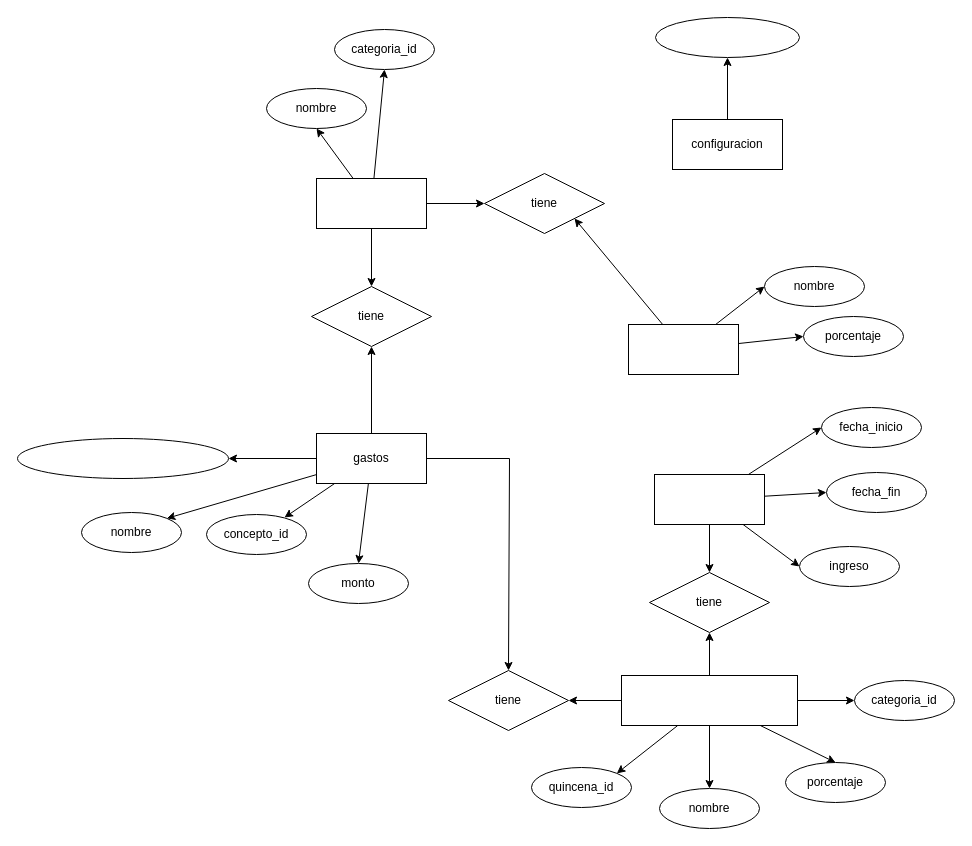
This 972x846 diagram has some shape labels left out. The shapes that lost their labels are listed below. From the top down, each one's centre as x and y in pixels, then its label:
At point (727, 37): "ingreso_quincenal".
At point (371, 203): "concepto".
At point (683, 349): "categorias".
At point (122, 458): "quincena_configuracion_id".
At point (709, 499): "quincenas".
At point (709, 700): "quincena_configuracion".
